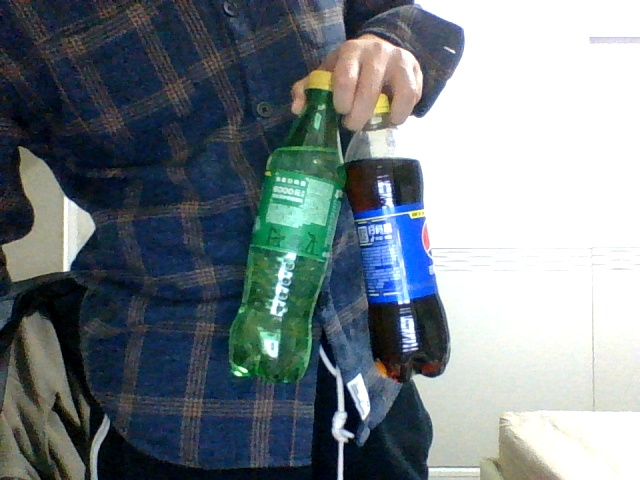Cola: (345, 95, 453, 381)
Sprite: (226, 69, 343, 380)
